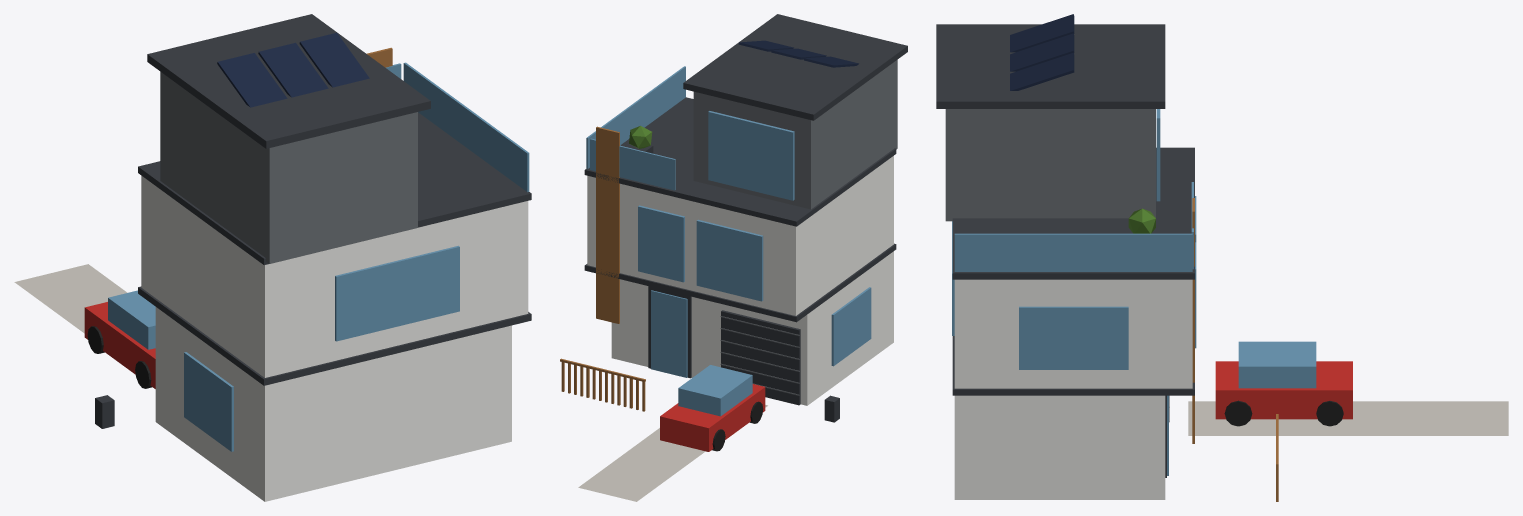
The model's file is evsehir.glb.
The picture shows the model from 3 angles, left to right: view 1: azimuth 30°, elevation 25°; view 2: azimuth 150°, elevation 25°; view 3: azimuth 270°, elevation 25°; orthographic projection. The views are drawn at different scales.
Parts seen in each view (by area): view 1: Ahsap; view 2: Ahsap; view 3: Ahsap.
Part boxes in pixels (left/top/right/bottom): Ahsap: left=14, top=14, right=531, bottom=501; Ahsap: left=560, top=14, right=907, bottom=501; Ahsap: left=936, top=14, right=1508, bottom=501.
Size of the model in its own units: 0.6088 by 0.7272 by 1.
